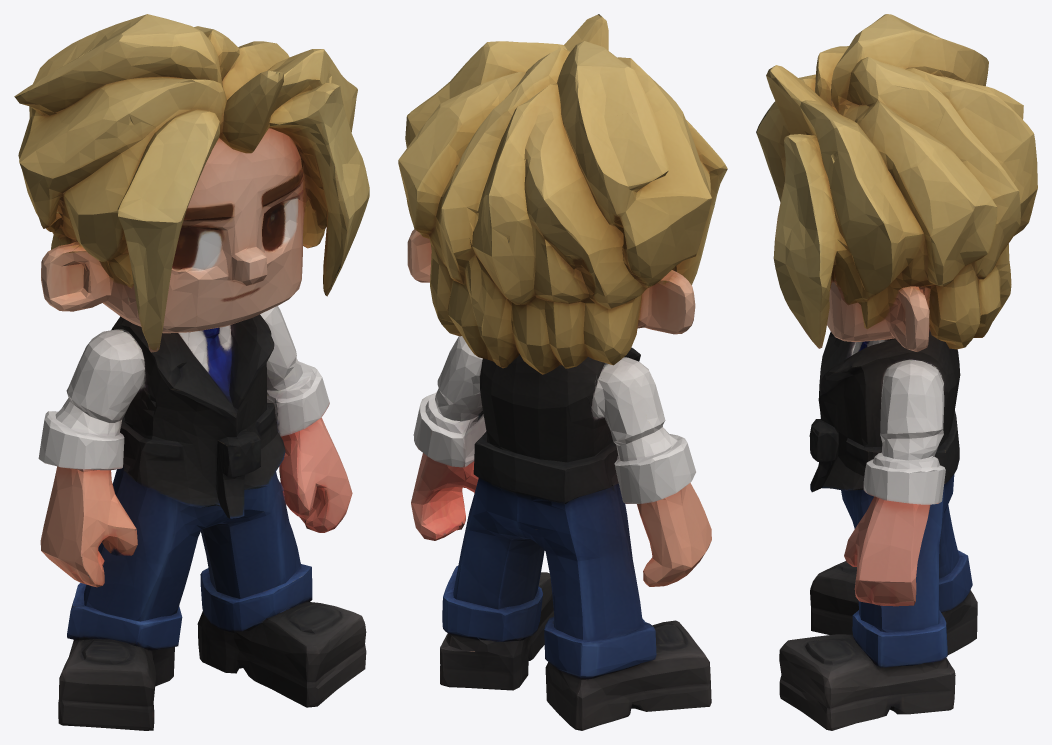
The picture shows the model from 3 angles, left to right: view 1: azimuth 30°, elevation 25°; view 2: azimuth 150°, elevation 25°; view 3: azimuth 270°, elevation 25°; orthographic projection. The views are drawn at different scales.
Visible parts, largest first — view 1: world; view 2: world; view 3: world.
Part boxes in pixels (x1,y1,x2,y2): world: (14, 14, 369, 730); world: (398, 14, 727, 730); world: (756, 14, 1037, 730).
Size of the model in its own units: 0.5169 by 0.9975 by 0.4083.
Materials: 1 (1 with a texture image).
